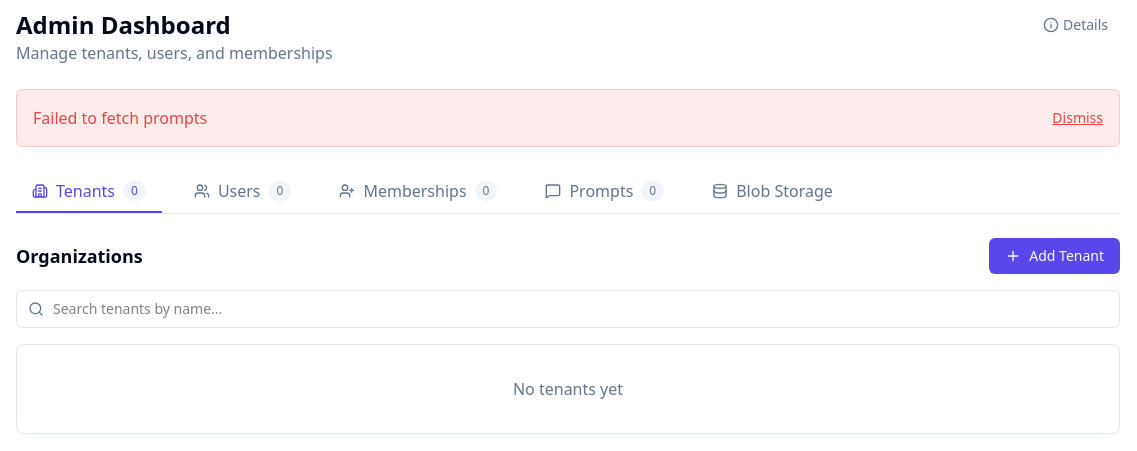
Test: AdminPage › error handling › should allow dismissing error message
Expected: the text "Failed to fetch prompts" is shown, [33, 106, 207, 130]
Click the button "Dismiss" at (1078, 118), box [1052, 108, 1103, 128]
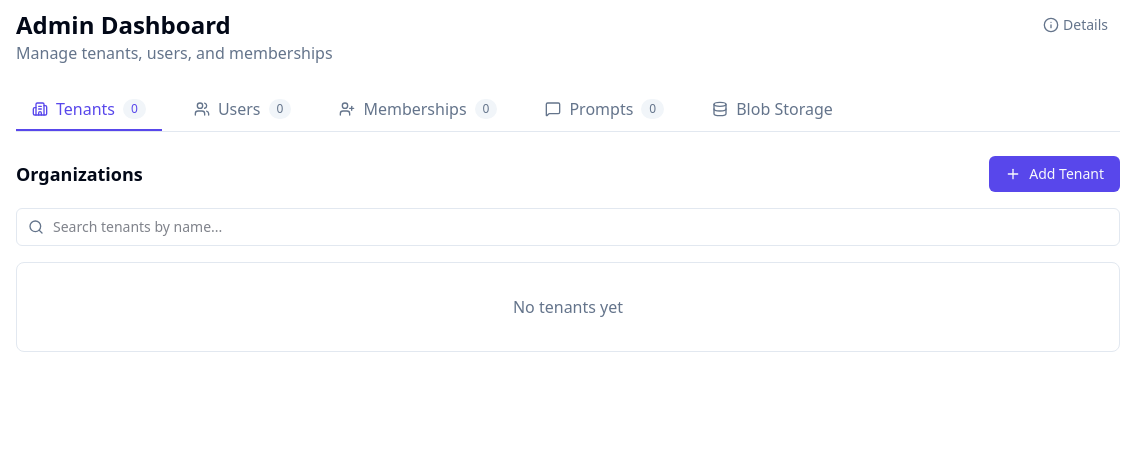
Now the text "Failed to fetch" is gone
